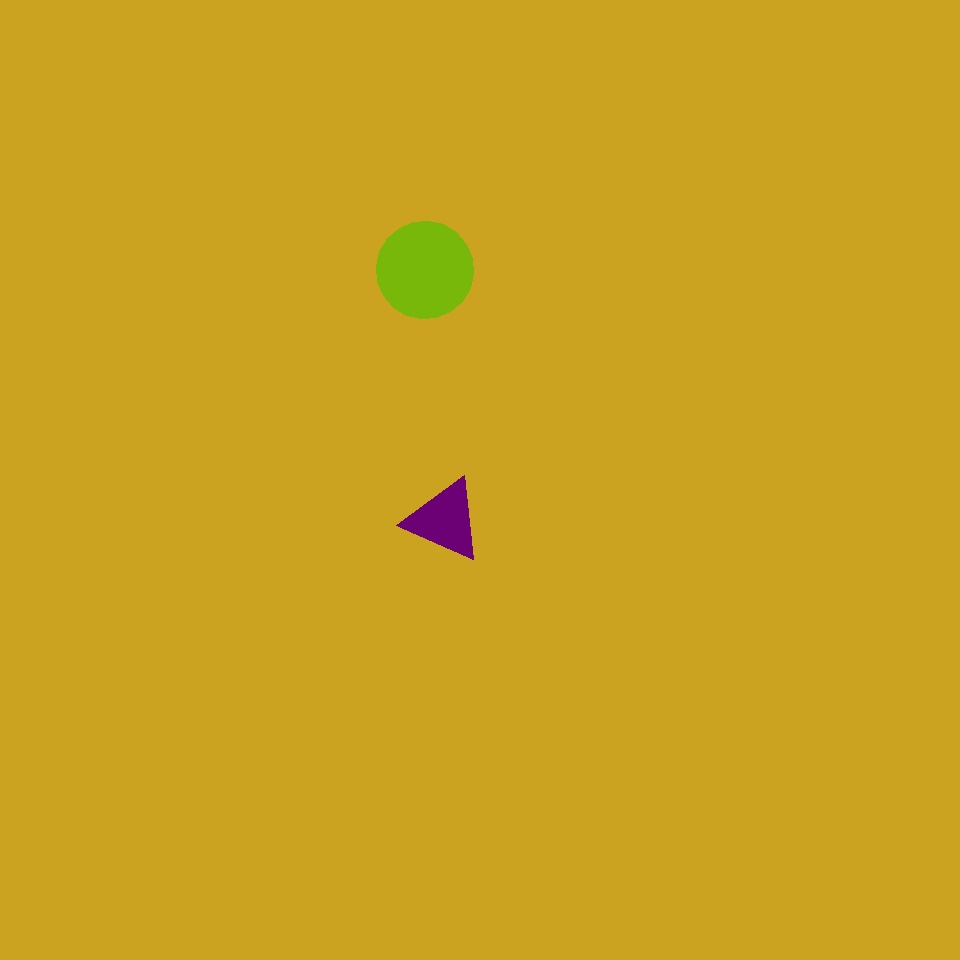circle: (479, 315, 769, 588), (709, 613, 865, 773), (464, 321, 623, 463), (406, 478, 484, 562)
square: (375, 197, 585, 406)
triangle: (412, 276, 744, 608), (139, 57, 341, 258), (172, 239, 289, 356), (376, 222, 474, 318)
